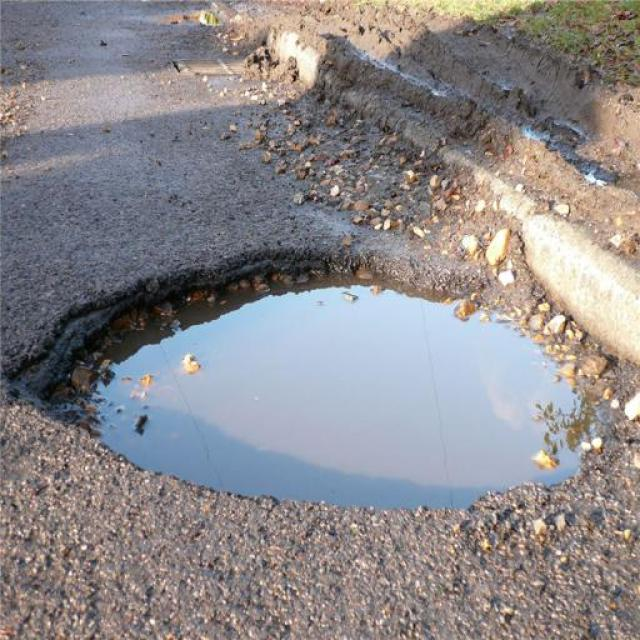puddle: (126, 312, 578, 491)
